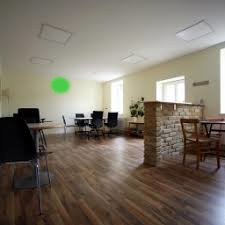focus: (49, 76, 72, 94)
